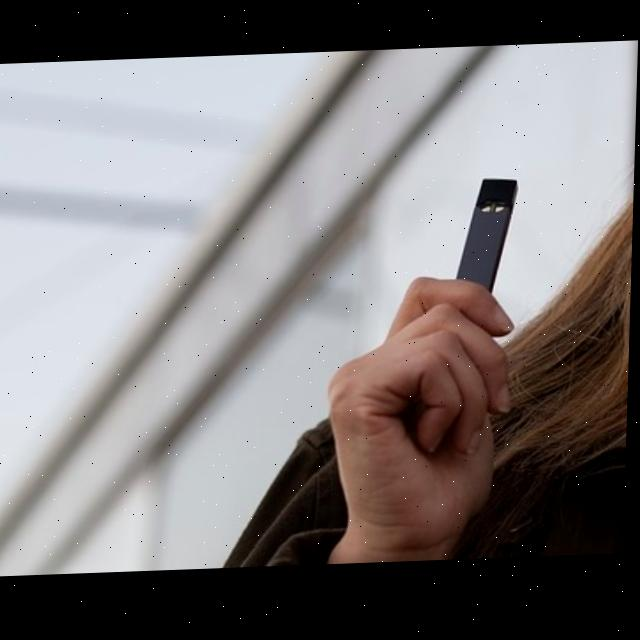vape: (459, 180, 521, 299)
